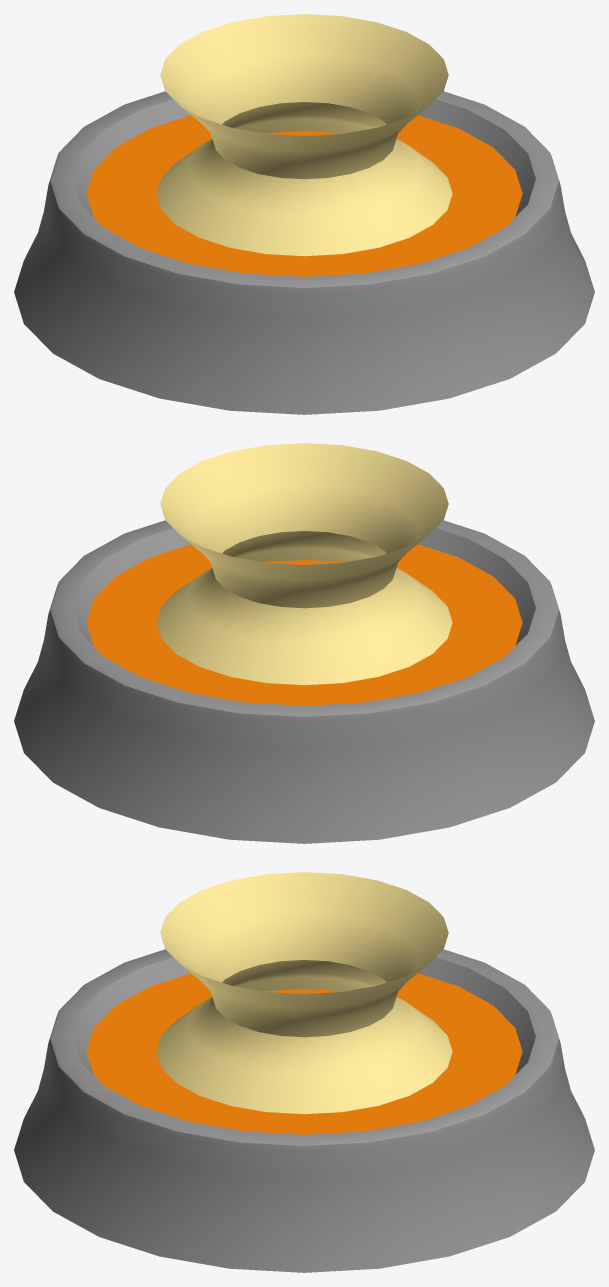
The model's file is SM_HologramBase.FBX.
3 renders of one model, top to bottom at view 1: azimuth 30°, elevation 25°; view 2: azimuth 150°, elevation 25°; view 3: azimuth 270°, elevation 25°, orthographic.
Parts seen in each view (by area): view 1: SM_HologramBase; view 2: SM_HologramBase; view 3: SM_HologramBase.
Part boxes in pixels (bbox=[...]): SM_HologramBase: bbox=[14, 14, 594, 414]; SM_HologramBase: bbox=[14, 443, 594, 843]; SM_HologramBase: bbox=[14, 872, 594, 1272].
Size of the model in its own units: 205 by 205 by 84.38.
